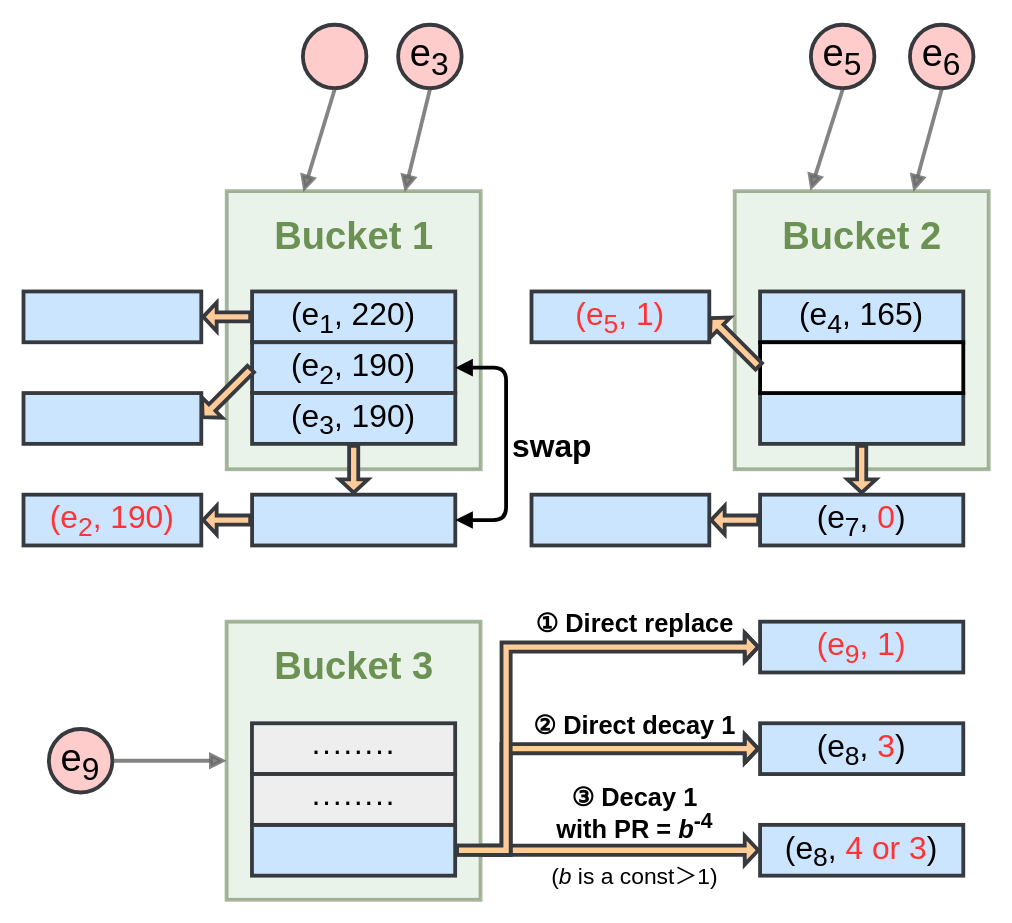
Some shapes in this 1012 by 923 pixel diagram are drawn without their labels. The box of each missing label's shape, as (x1, y1, x2, y2) in pixels:
( e 3 , 191): (250, 492, 457, 547)
(e 1 , 221 ): (21, 289, 203, 344)
(e 3 , 191): (21, 391, 203, 445)
(e 6 , 1): (529, 492, 711, 547)
(e 7 , 1): (758, 391, 965, 445)
(e 8 , 4): (249, 822, 456, 877)
e 1: (300, 22, 368, 90)
empty: (758, 340, 965, 394)
